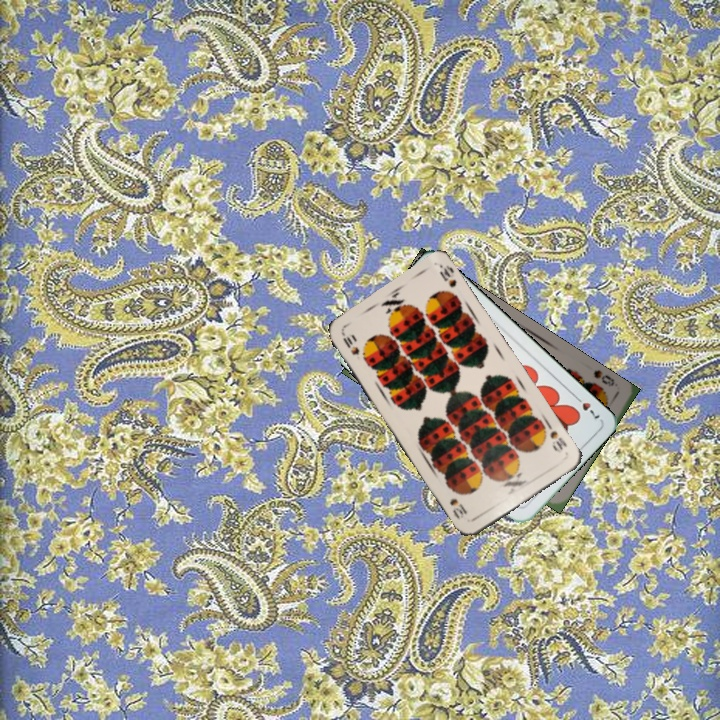H7: (570, 391, 603, 421)
S10: (543, 419, 570, 456), (339, 332, 362, 358)
S8: (589, 366, 617, 389)
